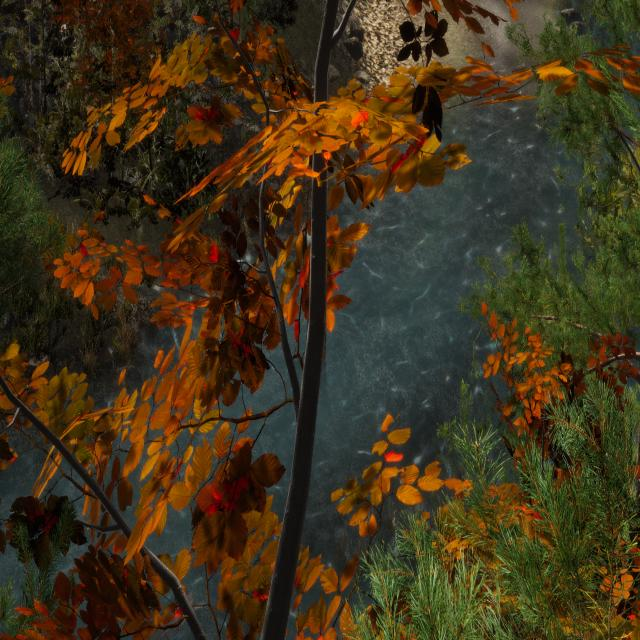Human: (227, 182, 269, 331)
